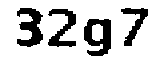2: (45, 3, 81, 53)
3: (14, 4, 44, 52)
7: (119, 3, 151, 49)
g: (82, 13, 114, 60)
